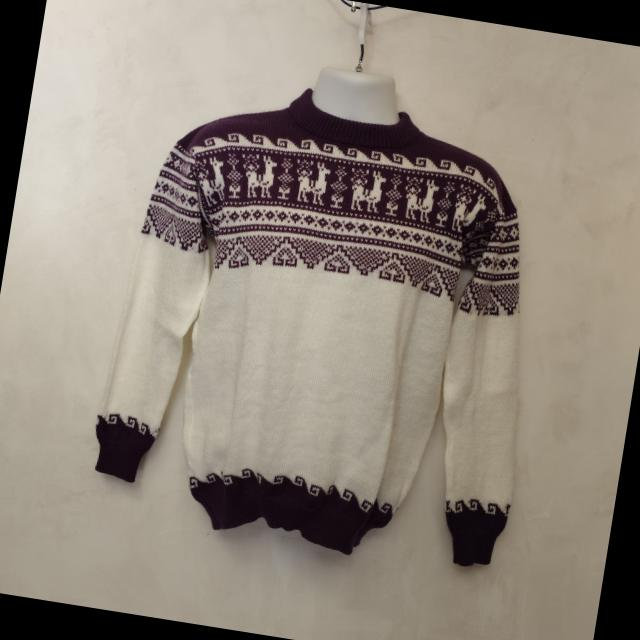Chompa: (81, 39, 576, 580)
